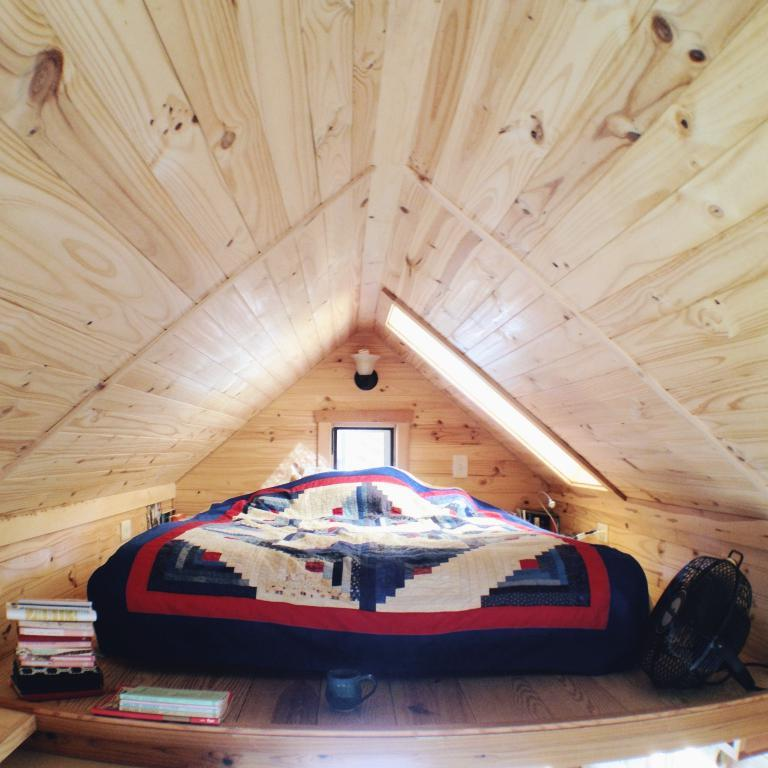book: (120, 684, 224, 714)
